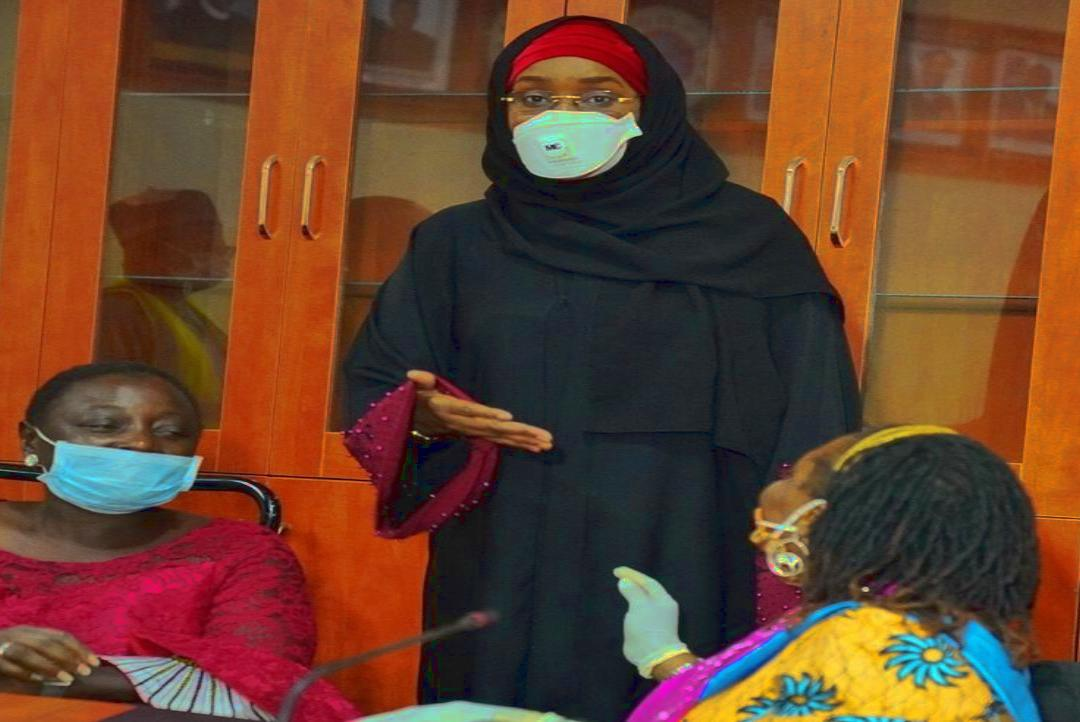mask_weared_incorrect: (18, 364, 205, 517)
